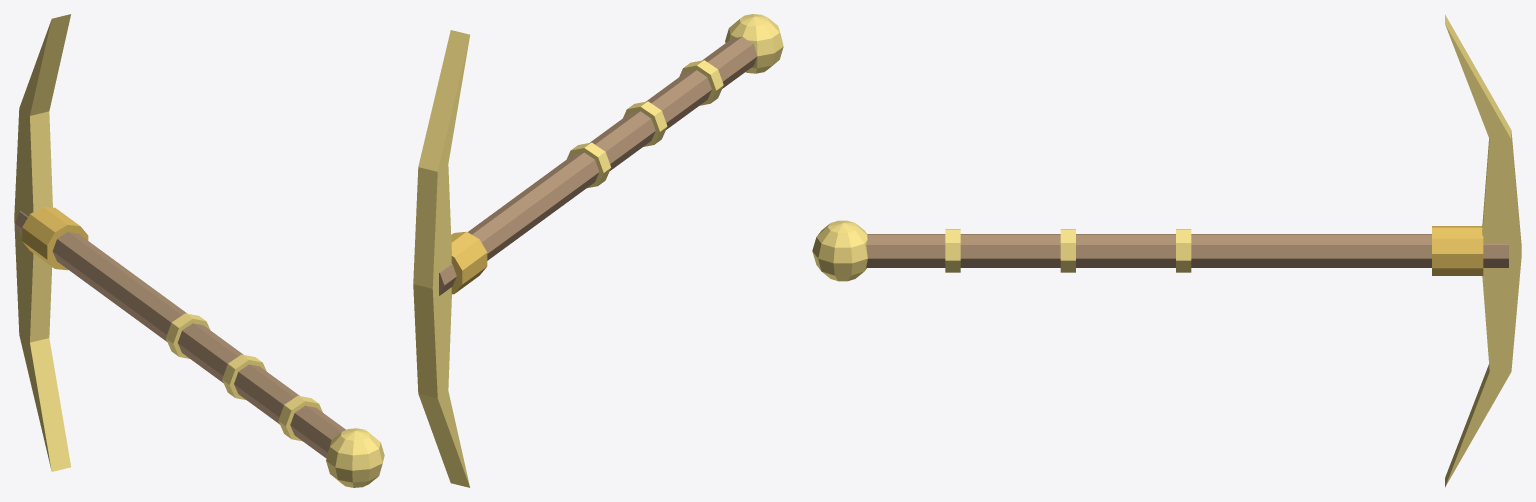
Rendered from gold_pick_held.gltf.
3 views of the same model, side by side, from view 1: azimuth 30°, elevation 25°; view 2: azimuth 150°, elevation 25°; view 3: azimuth 270°, elevation 25° (orthographic). The views are drawn at different scales.
Visible parts, largest first — view 1: furnace_gold_pick_held; view 2: furnace_gold_pick_held; view 3: furnace_gold_pick_held.
Part boxes in pixels (bbox=[...]): furnace_gold_pick_held: bbox=[14, 14, 384, 487]; furnace_gold_pick_held: bbox=[413, 14, 783, 487]; furnace_gold_pick_held: bbox=[812, 14, 1521, 487].
Size of the model in its own units: 0.0457 by 0.4 by 0.554.
